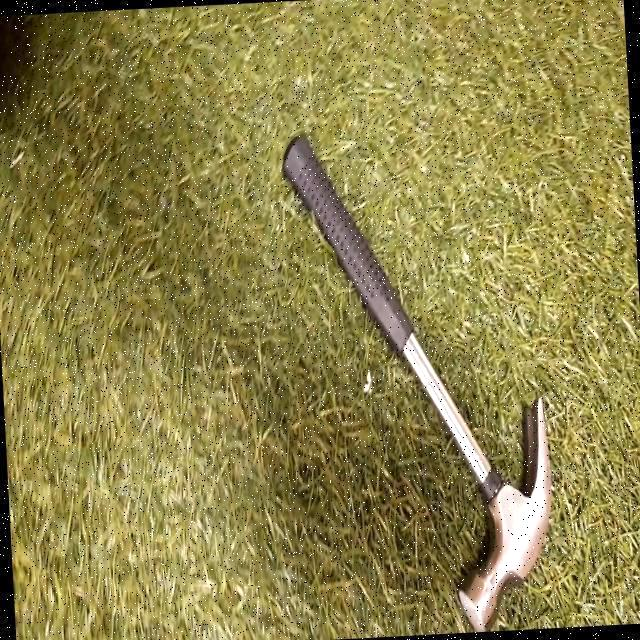hammer: (280, 133, 552, 633)
